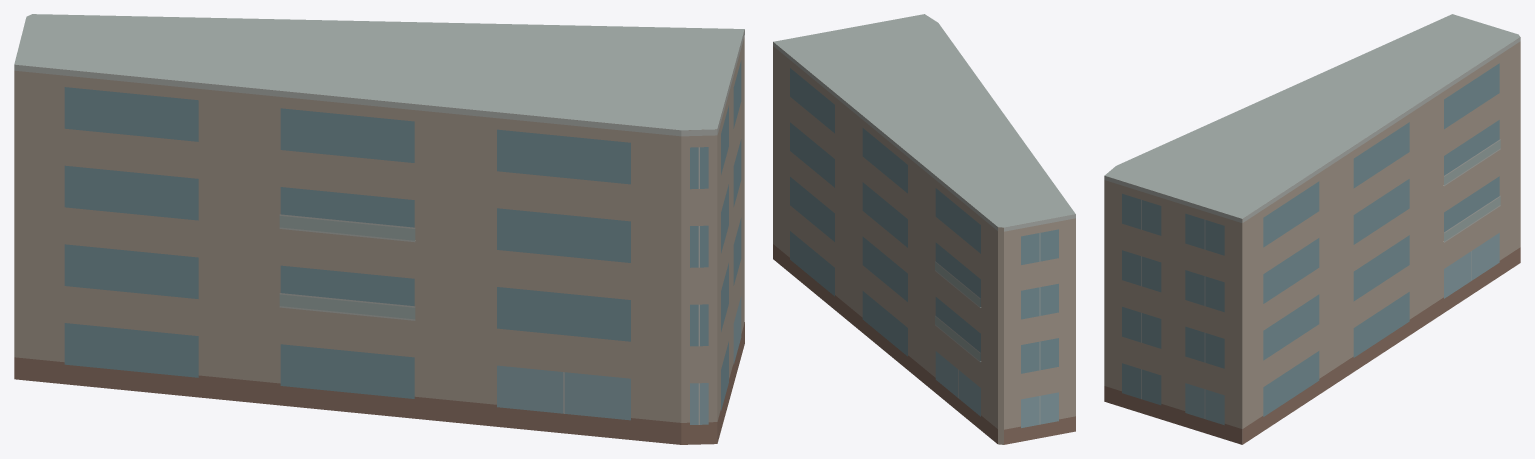
The model's file is survey-upis-32756789.glb.
The picture shows the model from 3 angles, left to right: view 1: azimuth 30°, elevation 25°; view 2: azimuth 150°, elevation 25°; view 3: azimuth 270°, elevation 25°; orthographic projection. The views are drawn at different scales.
Visible parts, largest first — view 1: survey-upis-32756789.tmp; view 2: survey-upis-32756789.tmp; view 3: survey-upis-32756789.tmp.
Boxes of the visible parts, <box> form: survey-upis-32756789.tmp: <box>14,14,744,444</box>; survey-upis-32756789.tmp: <box>773,14,1075,444</box>; survey-upis-32756789.tmp: <box>1104,14,1520,444</box>.
Size of the model in its own units: 24.7 by 12.7 by 21.2.
